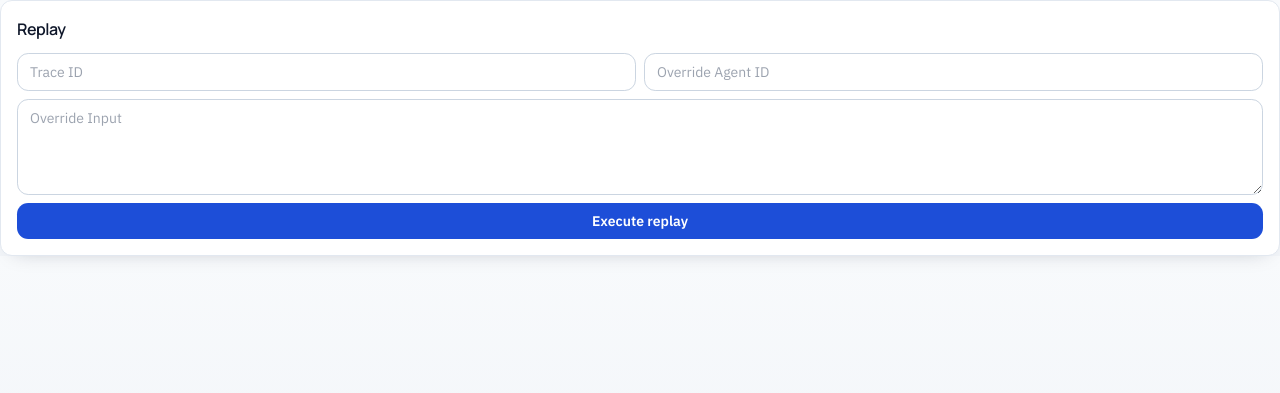
Test: workflow panels › shows validation error for replay when fields are missing
This screenshot has width=1280, height=393.
Click the button "Execute replay" at (640, 221), box x1=17 y1=203 x2=1263 y2=239
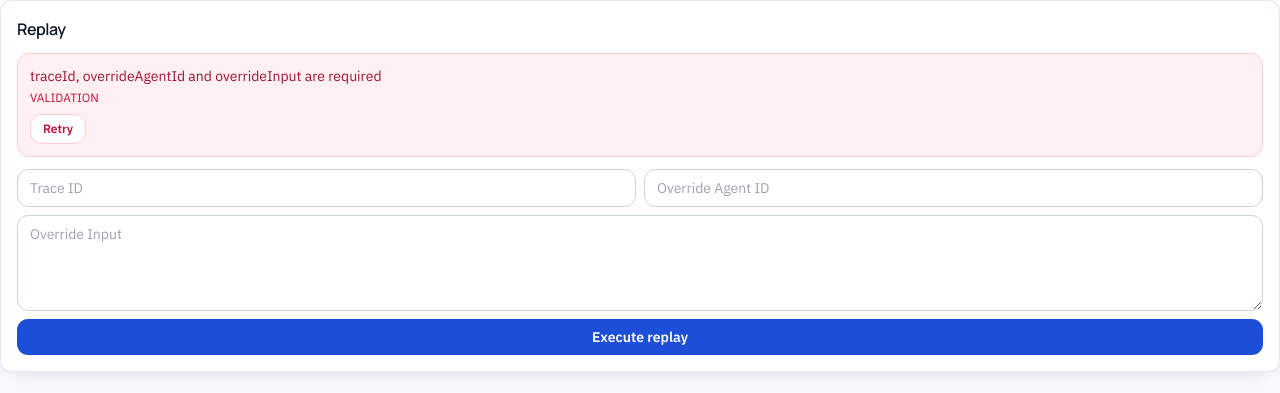
Now the text "traceId, overrideAgentId and overrideInput are required" is shown, box x1=30 y1=67 x2=382 y2=85
